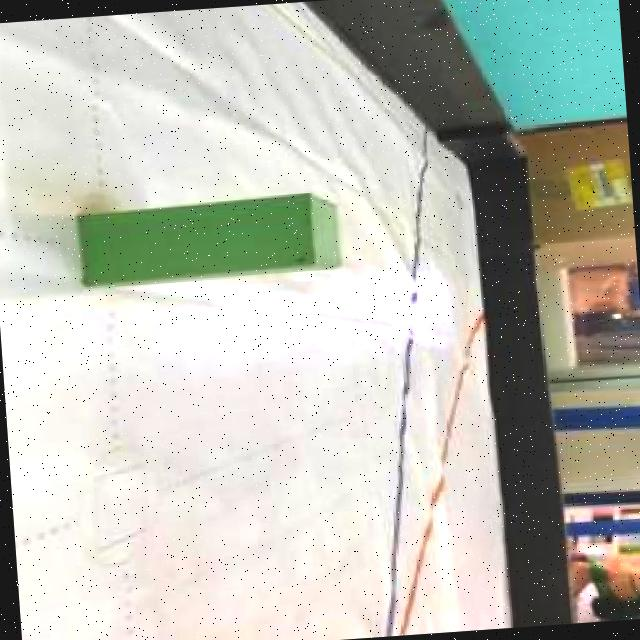greenbox: (74, 190, 345, 288)
